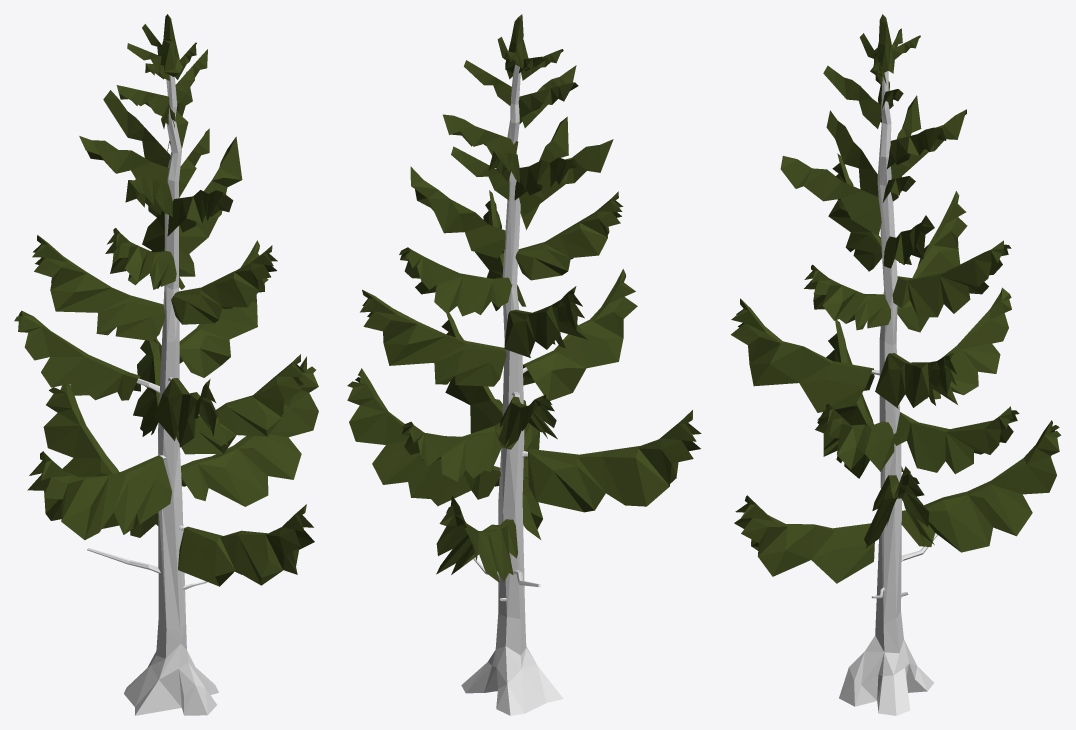
Rendered from SM_Tree_Spruce_Young_A.fbx.
3 renders of one model, left to right at view 1: azimuth 30°, elevation 25°; view 2: azimuth 150°, elevation 25°; view 3: azimuth 270°, elevation 25°, orthographic. The views are drawn at different scales.
Parts seen in each view (by area): view 1: tree-spruce-young-a; view 2: tree-spruce-young-a; view 3: tree-spruce-young-a.
Part boxes in pixels (x1,y1,x2,y2): tree-spruce-young-a: (14,14,318,715); tree-spruce-young-a: (347,14,701,715); tree-spruce-young-a: (731,14,1061,715).
Bounding box in the file's own units: 2.91 × 6.04 × 2.68.
